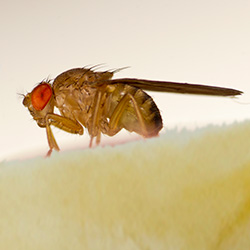Fruit fly: (18, 62, 207, 152)
